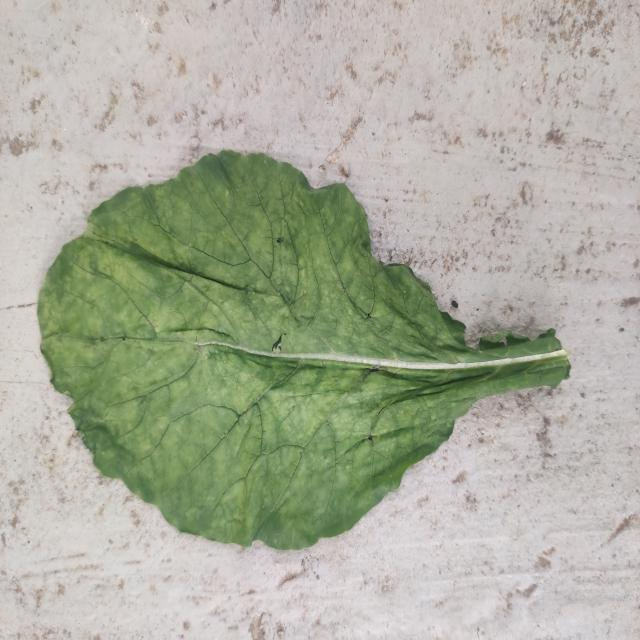raddish: (38, 152, 570, 548)
